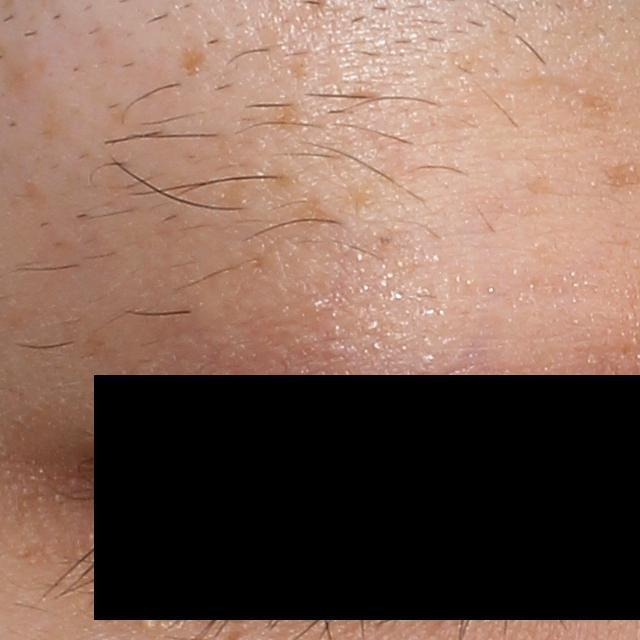melasma: (0, 49, 53, 97), (272, 96, 305, 132), (176, 45, 204, 77)
